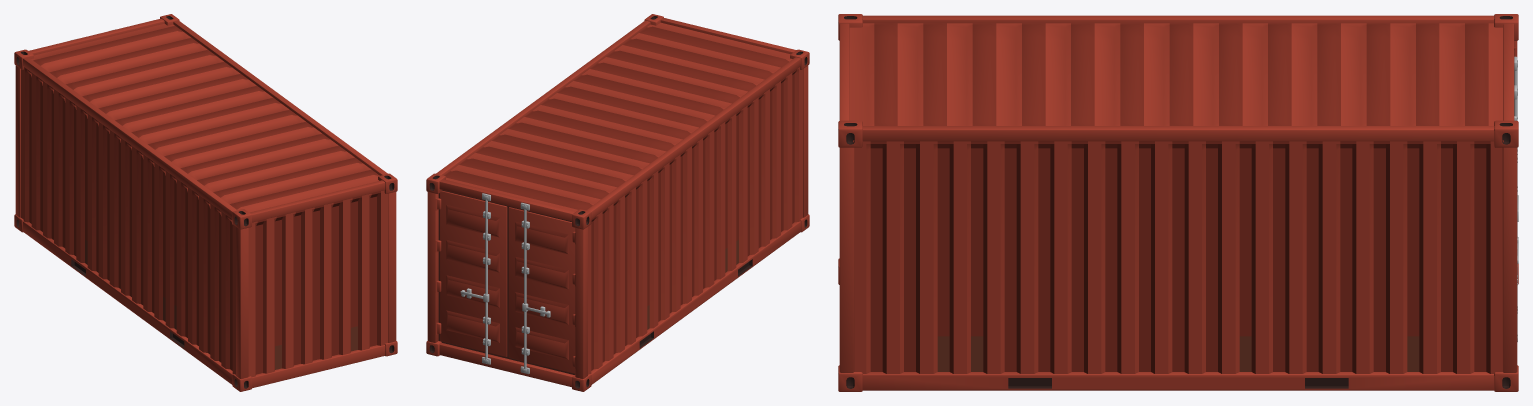
Rendered from Container.fbx.
3 views of the same model, side by side, from view 1: azimuth 30°, elevation 25°; view 2: azimuth 150°, elevation 25°; view 3: azimuth 270°, elevation 25° (orthographic). The views are drawn at different scales.
Visible parts, largest first — view 1: Container_Mesh; view 2: Container_Mesh; view 3: Container_Mesh.
Boxes of the visible parts, x1=… form: Container_Mesh: x1=14, y1=14, x2=397, y2=391; Container_Mesh: x1=426, y1=14, x2=809, y2=391; Container_Mesh: x1=838, y1=14, x2=1518, y2=391.
Bounding box in the file's own units: 2.44 × 2.59 × 6.06.
